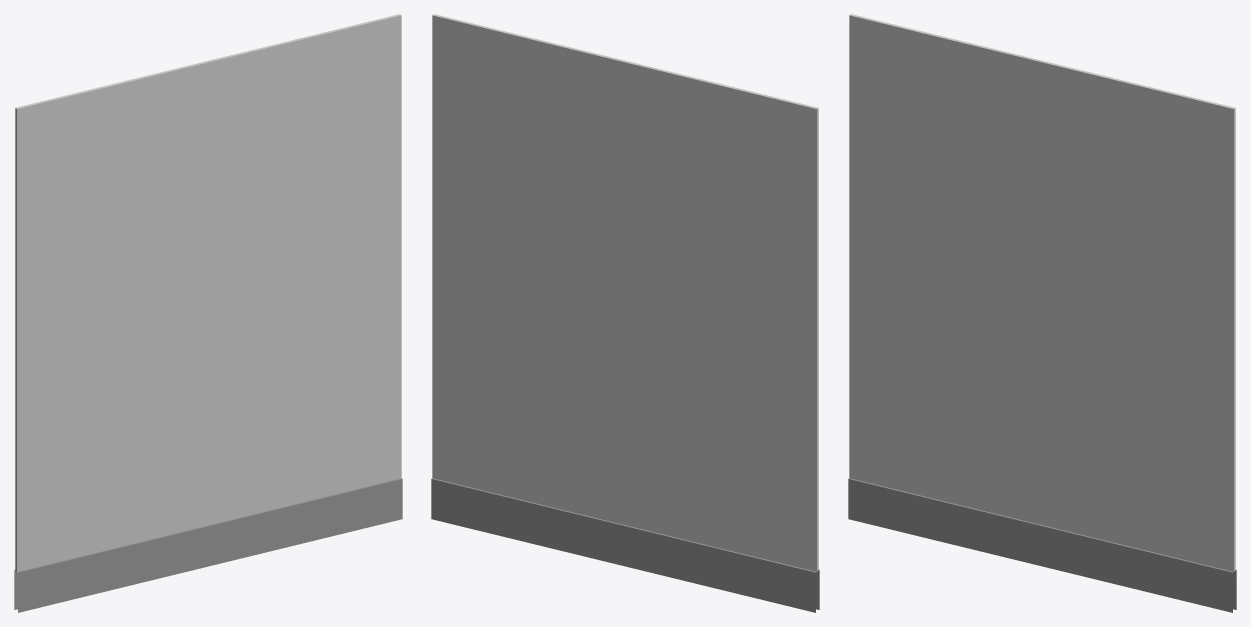
The model's file is Wall_Glass.fbx.
3 renders of one model, left to right at view 1: azimuth 30°, elevation 25°; view 2: azimuth 150°, elevation 25°; view 3: azimuth 330°, elevation 25°, orthographic.
Parts seen in each view (by area): view 1: Wall_Glass; view 2: Wall_Glass; view 3: Wall_Glass.
Boxes of the visible parts, left/top/right/bottom form: Wall_Glass: left=14, top=14, right=402, bottom=612; Wall_Glass: left=431, top=14, right=819, bottom=612; Wall_Glass: left=848, top=14, right=1236, bottom=612.
Bounding box in the file's own units: 2 × 2.5 × 0.0347.
